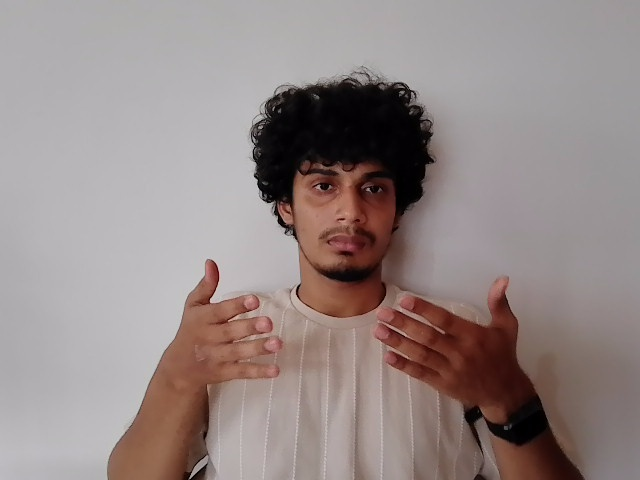here: (175, 259, 542, 396)
